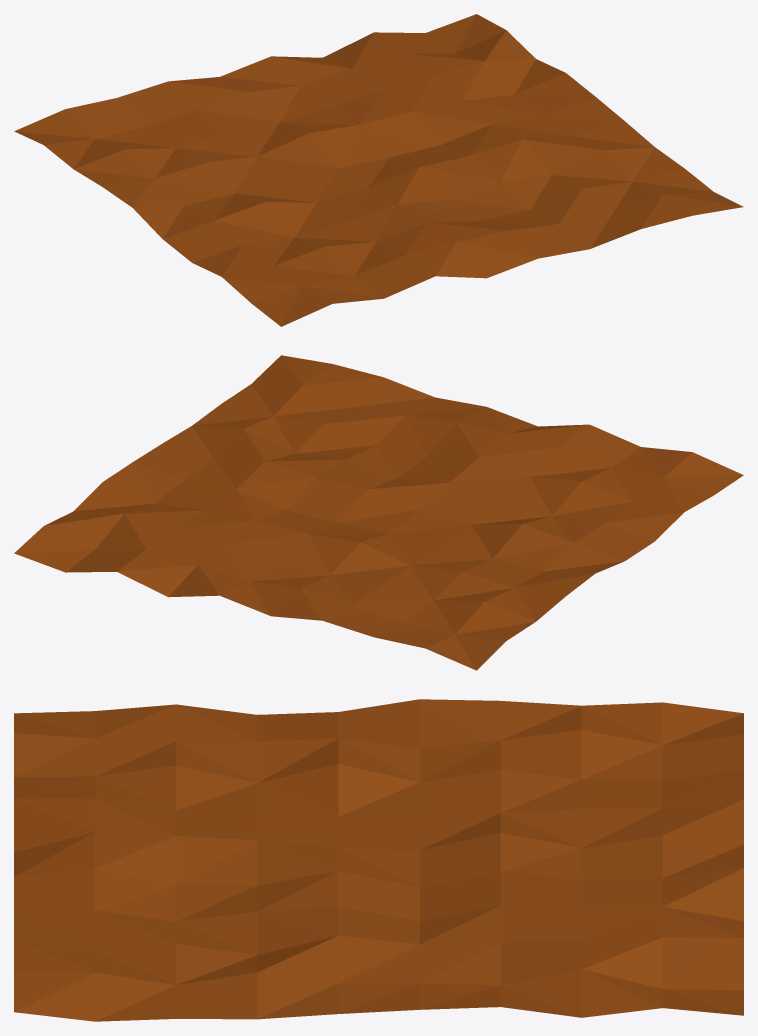
3 views of the same model, one above another, from view 1: azimuth 30°, elevation 25°; view 2: azimuth 150°, elevation 25°; view 3: azimuth 270°, elevation 25° (orthographic). The views are drawn at different scales.
Visible parts, largest first — view 1: landscape00; view 2: landscape00; view 3: landscape00.
Boxes of the visible parts, box(x1,y1,x2,y2) form: landscape00: box(14, 14, 743, 326); landscape00: box(14, 355, 743, 670); landscape00: box(14, 699, 743, 1021).
Bounding box in the file's own units: 6000 × 191 × 6000.
